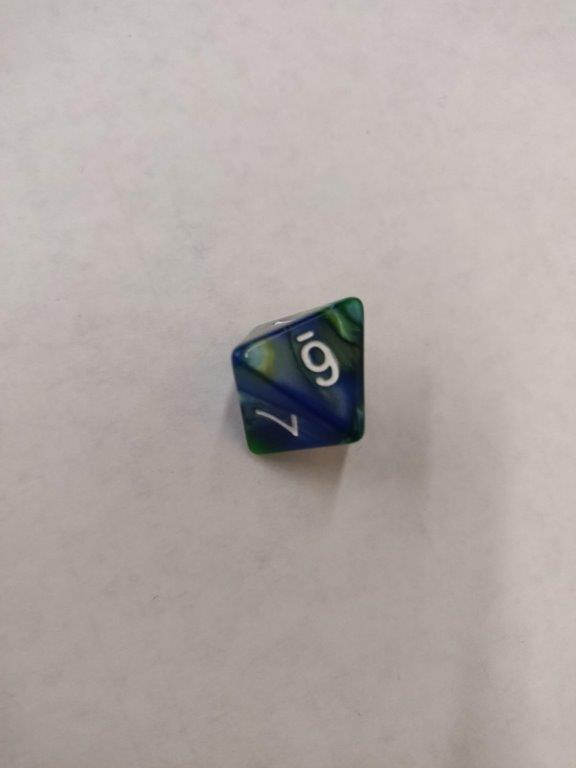d8-6: (234, 295, 368, 455)
